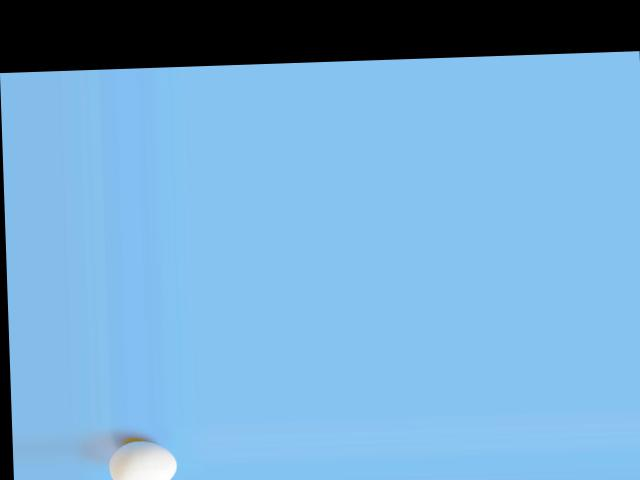egg: (107, 439, 177, 480)
